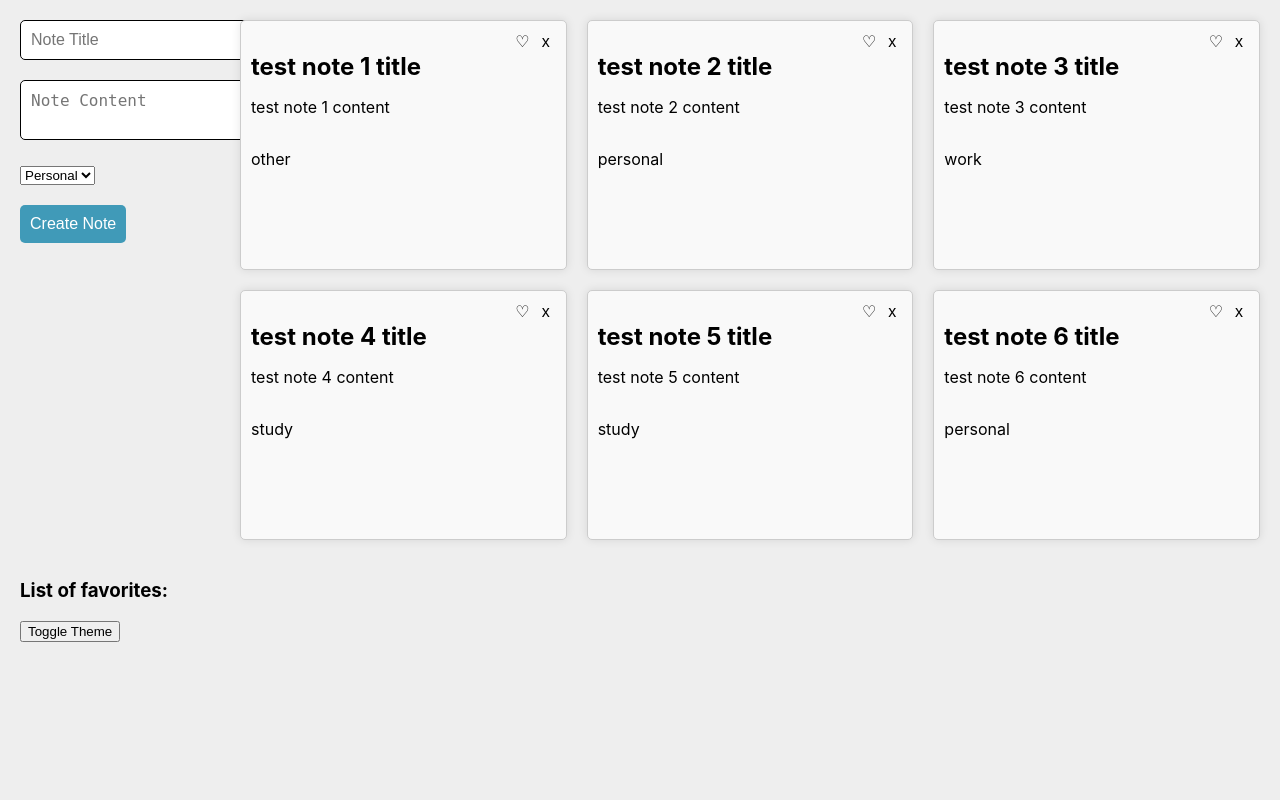
Scenario: Delete StickyNote › delete all notes and check if they are removed
Click the 1st button "x" at (546, 42), box [536,31,556,52]
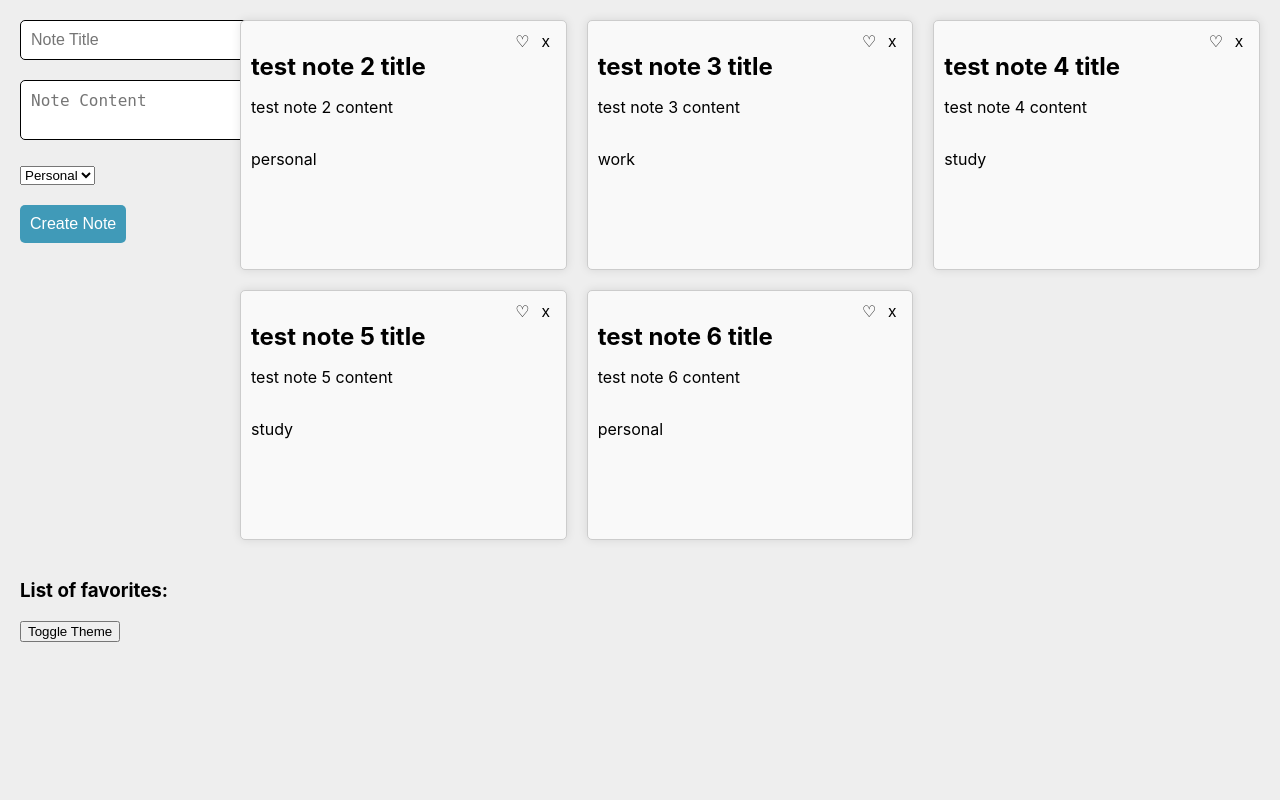
Click the 1st button "x" at (546, 42), box [536,31,556,52]
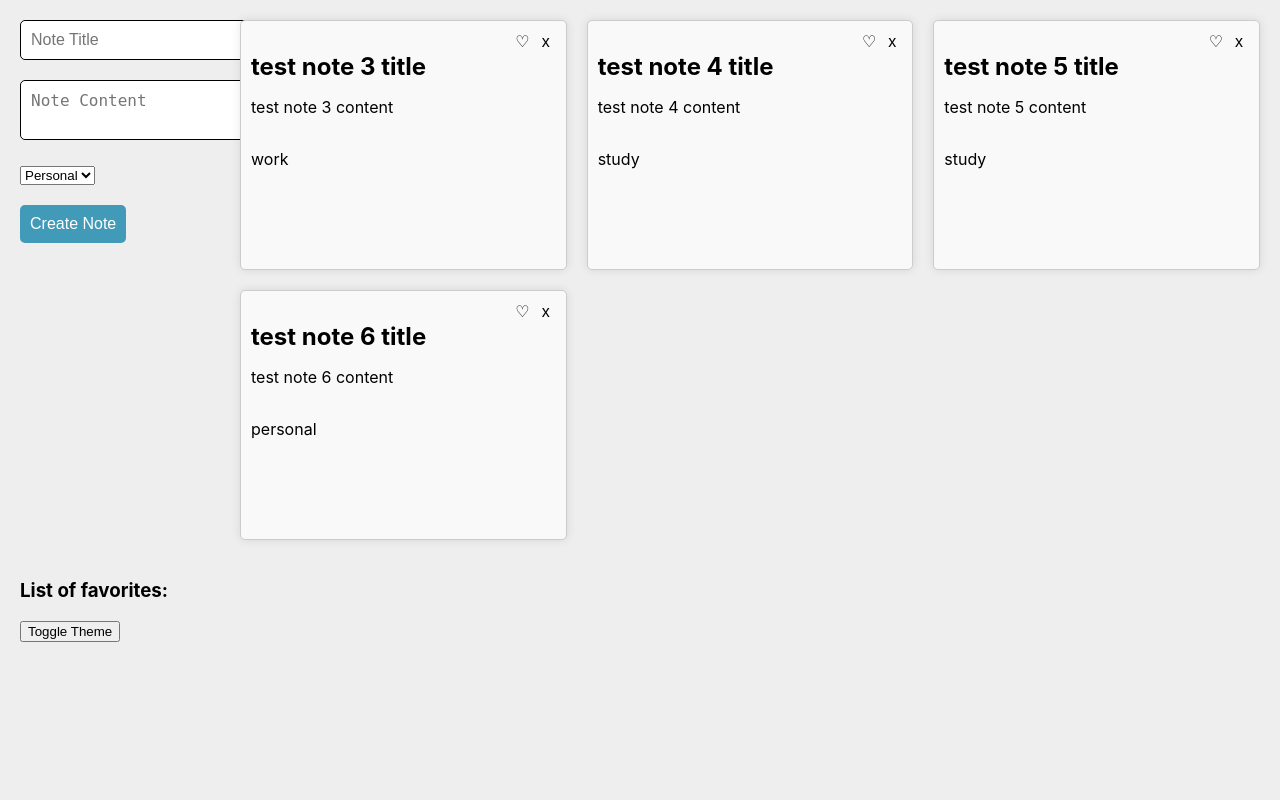
Click the 1st button "x" at (546, 42), box [536,31,556,52]
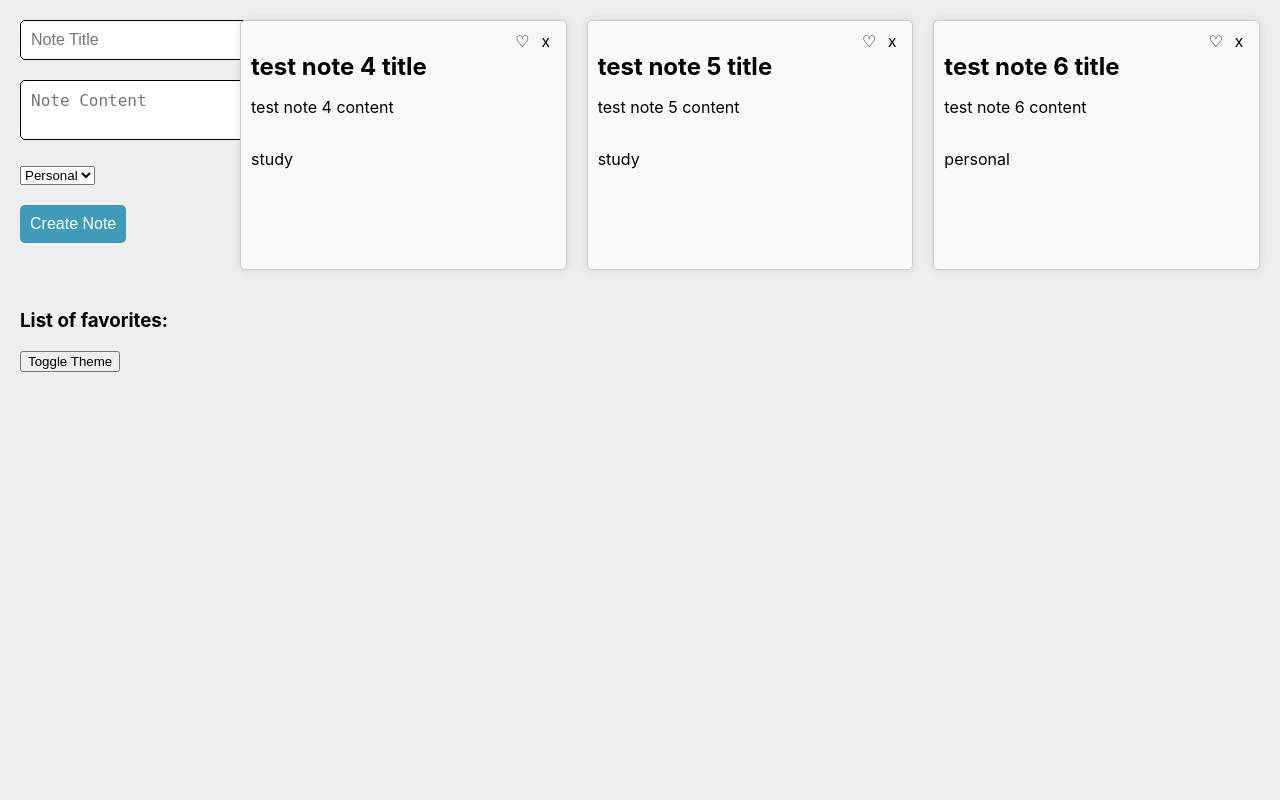
Click the 1st button "x" at (546, 42), box [536,31,556,52]
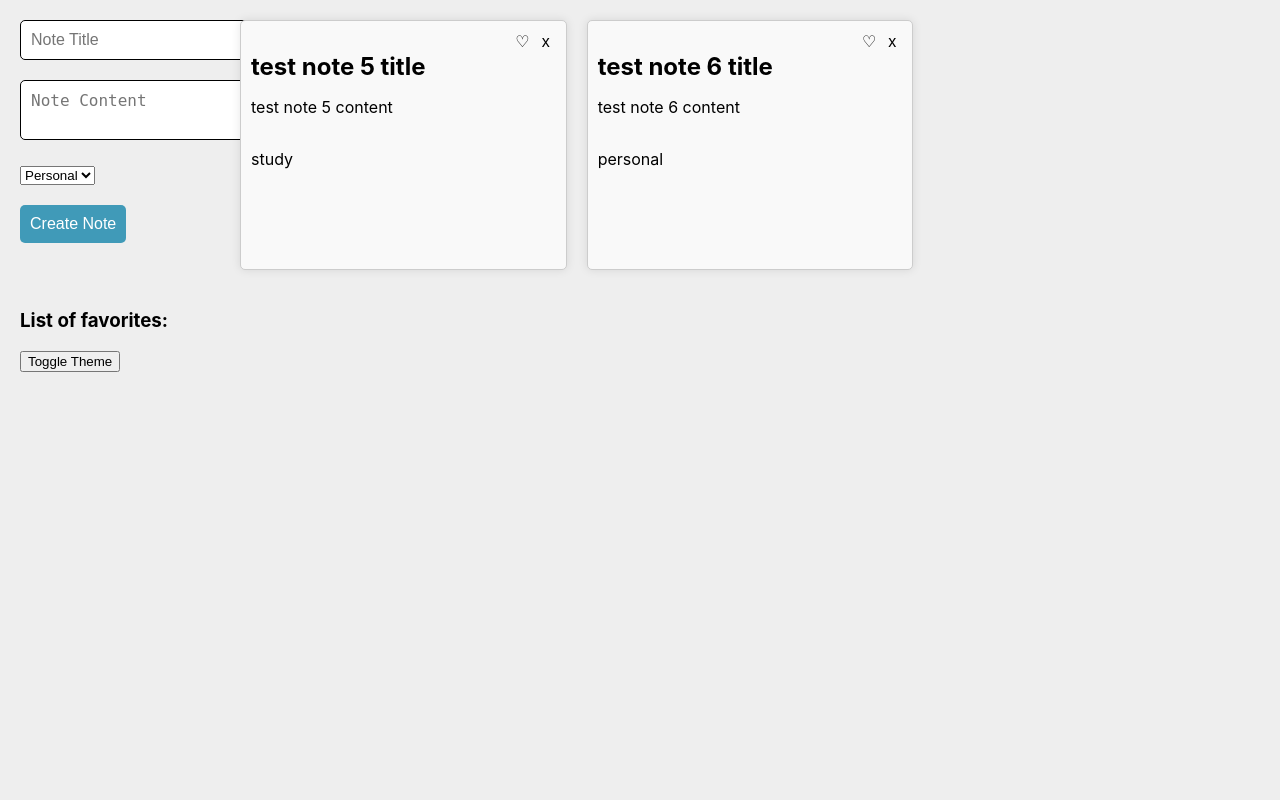
Click the 1st button "x" at (546, 42), box [536,31,556,52]
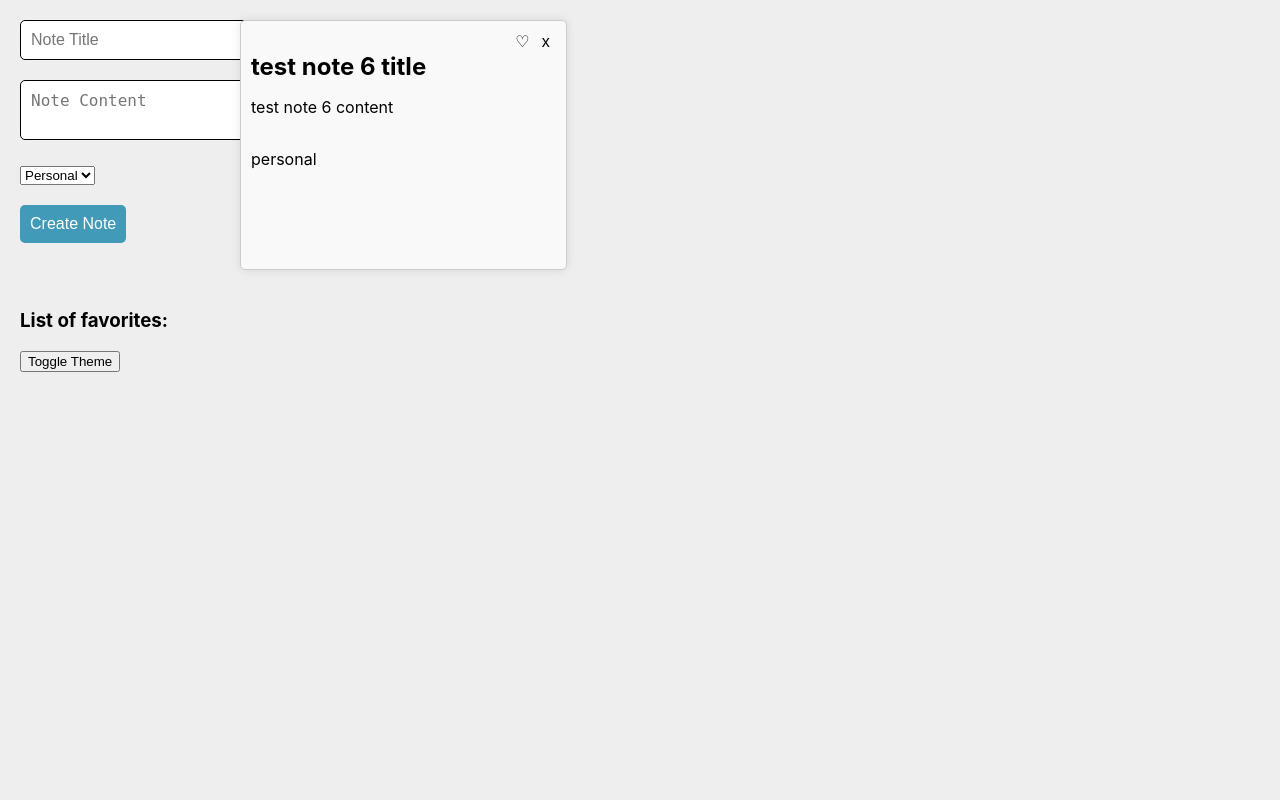
Click the button "x" at (546, 42), box [536,31,556,52]
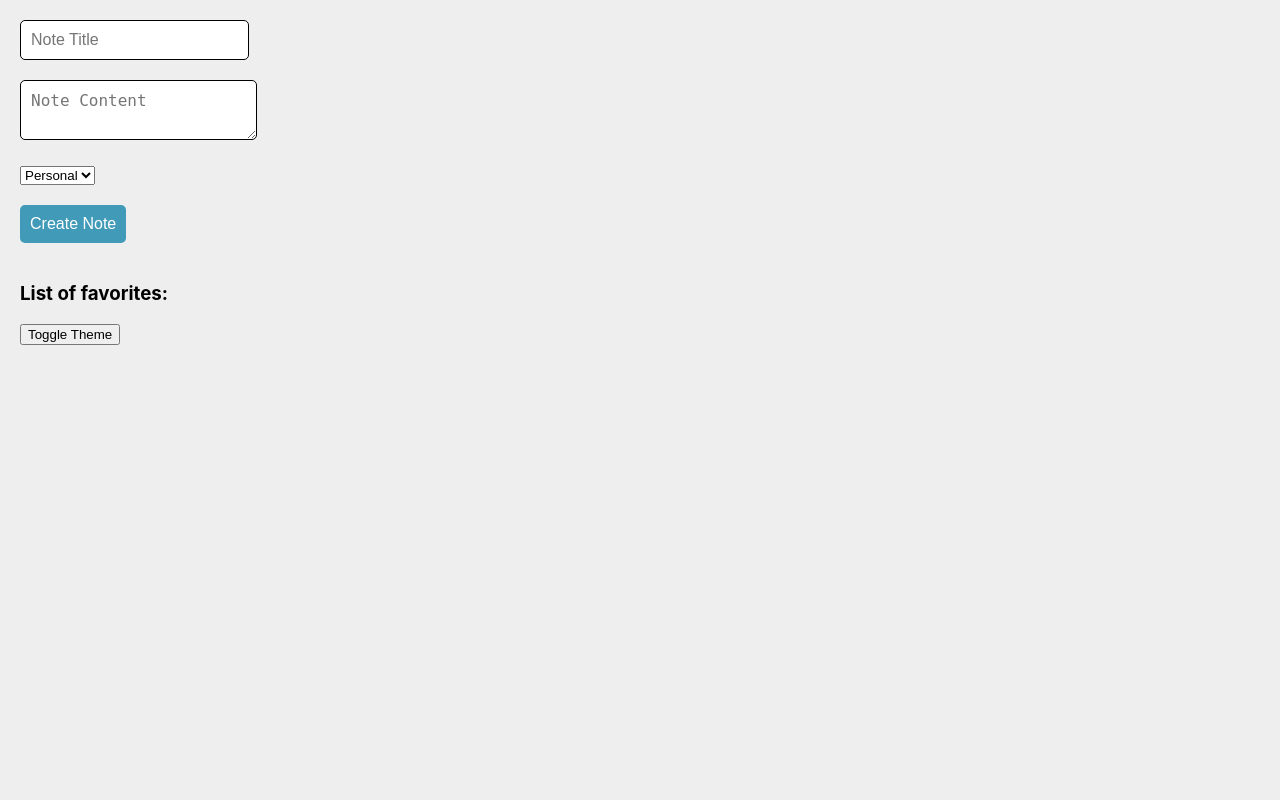
Now the button "♡" is gone
